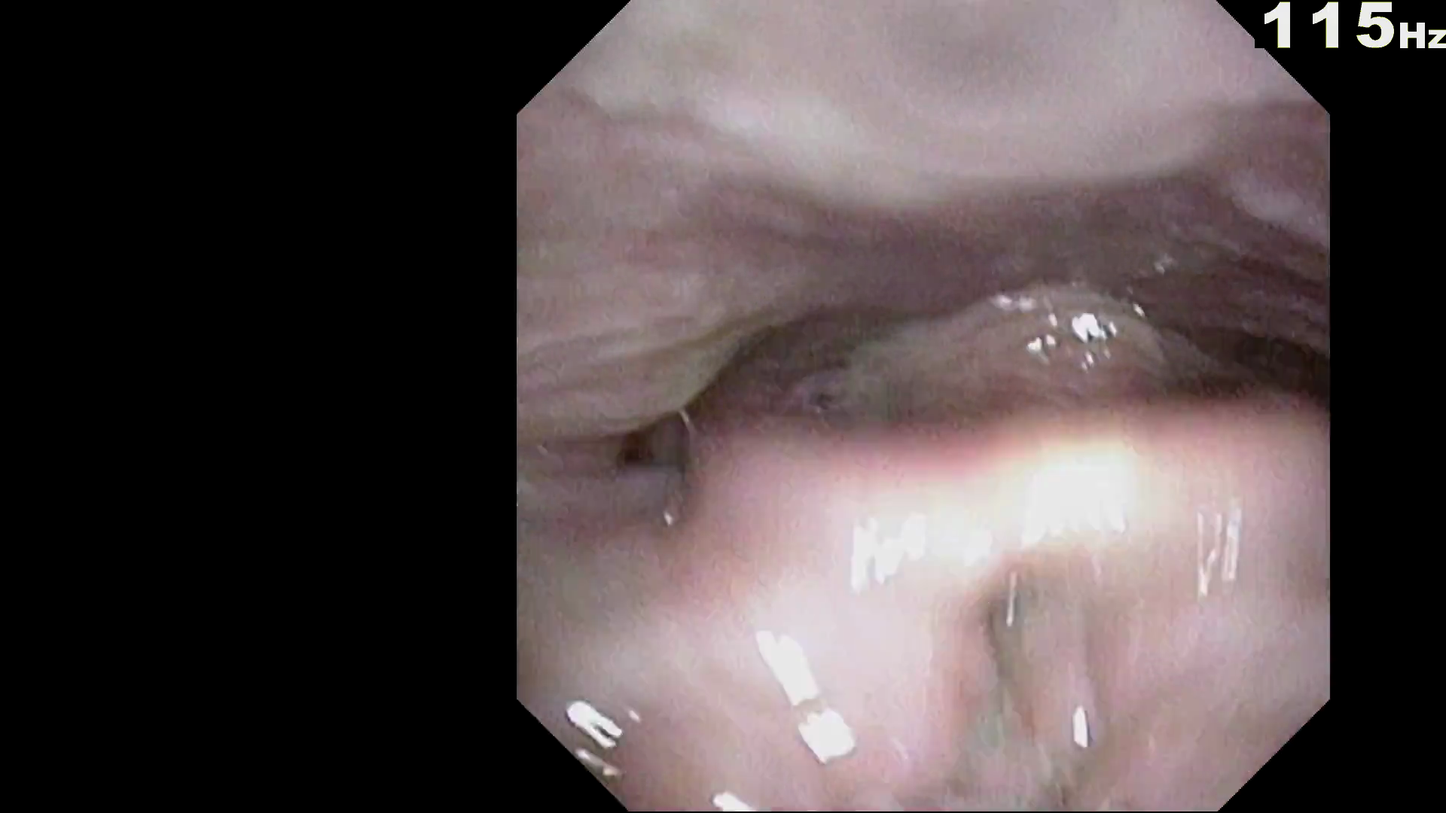epiglottis: (711, 565, 1260, 732)
